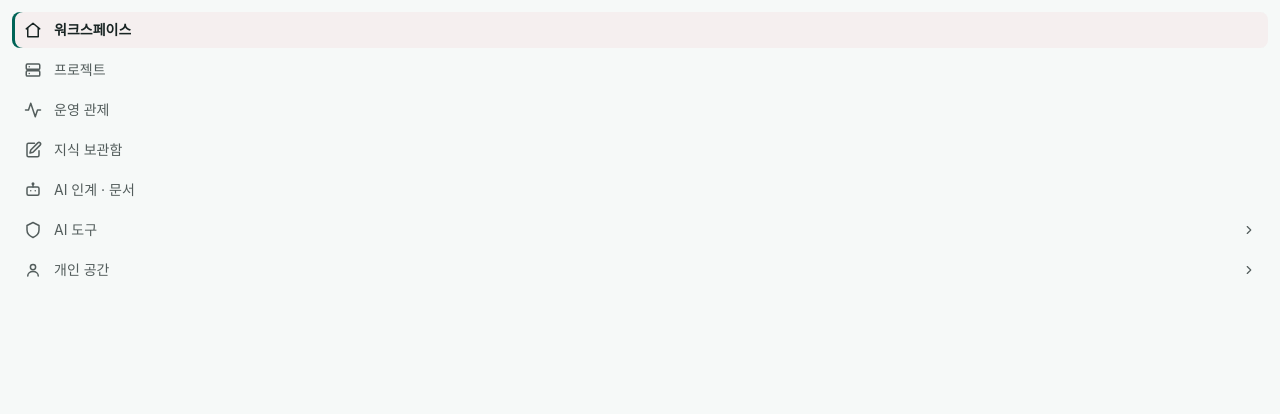
Sidebar 트리 네비게이션 › 그룹 헤더 클릭 시 자식 링크가 나타났다 사라진다
This screenshot has width=1280, height=414.
Check: the text "스킬" is not shown
Click the button "AI 도구" at x=76, y=230, box [12, 212, 1268, 248]
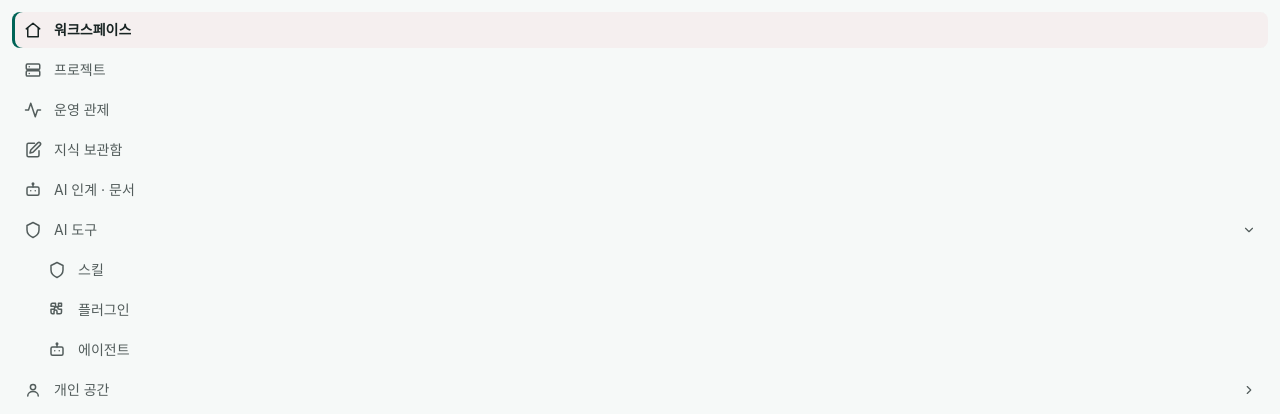
Check: the text "스킬" is shown, box [78, 260, 104, 280]
Check: the text "플러그인" is shown, box [78, 300, 130, 320]
Click the button "AI 도구" at x=76, y=230, box [12, 212, 1268, 248]
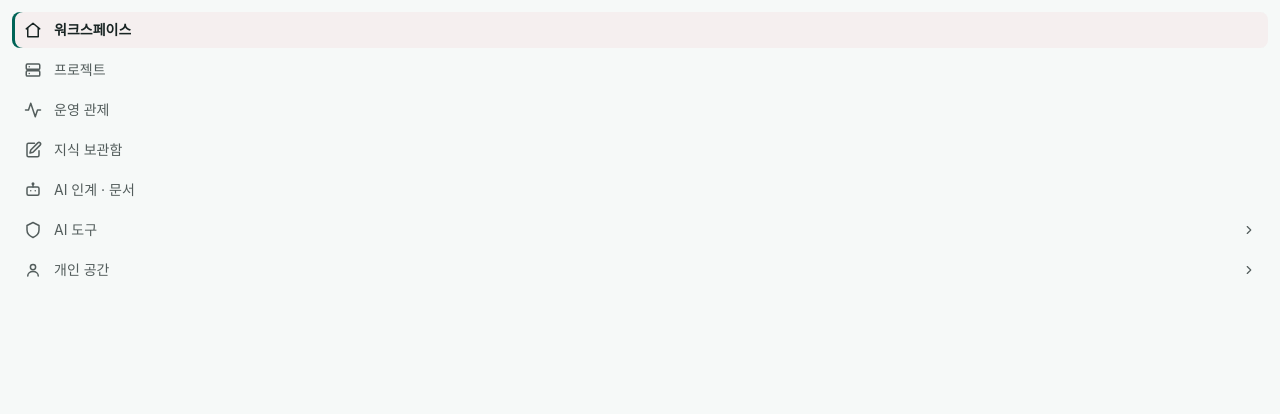
Check: the link "스킬" is gone
